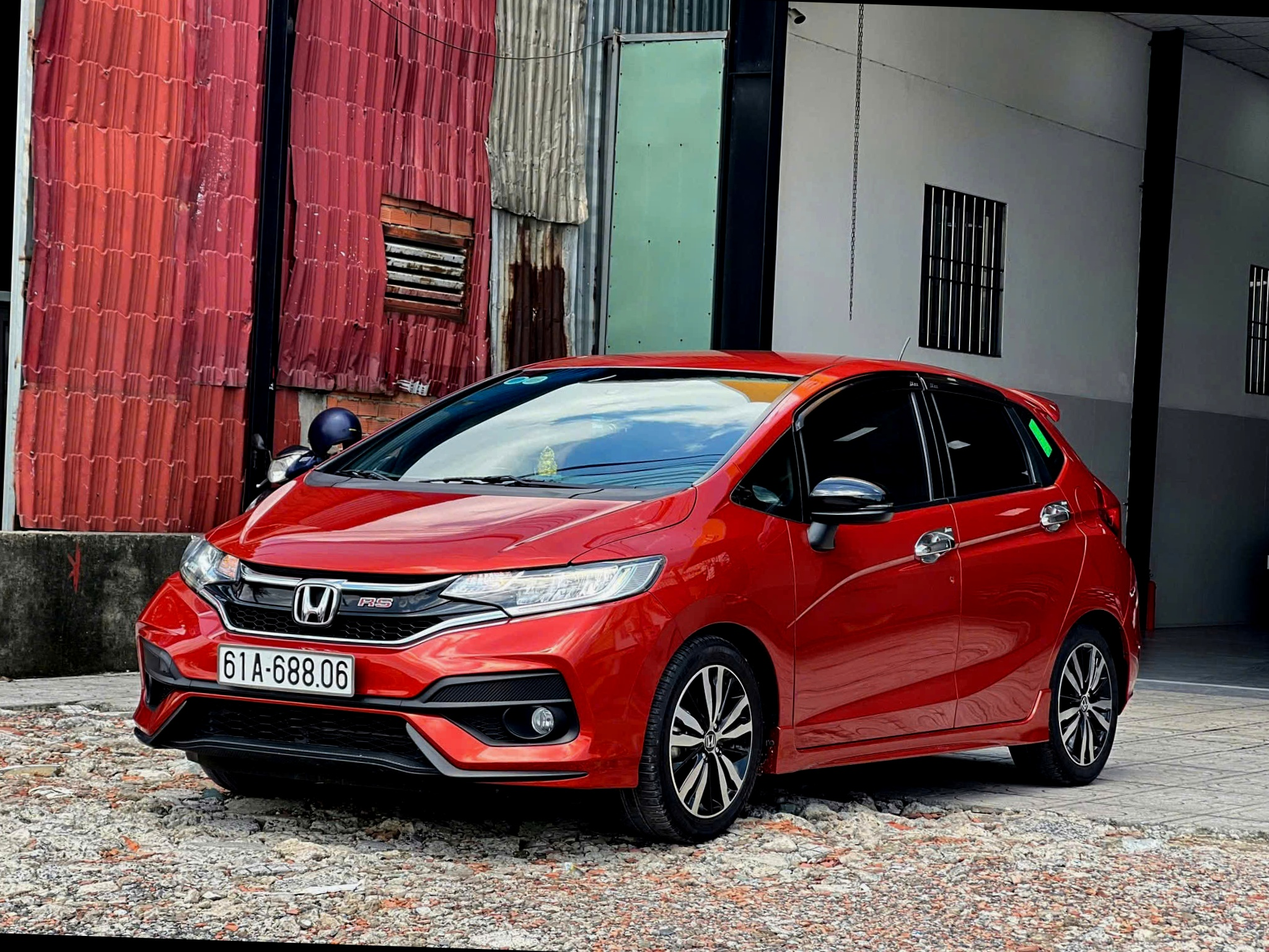Bien-so: (233, 688, 366, 743)
